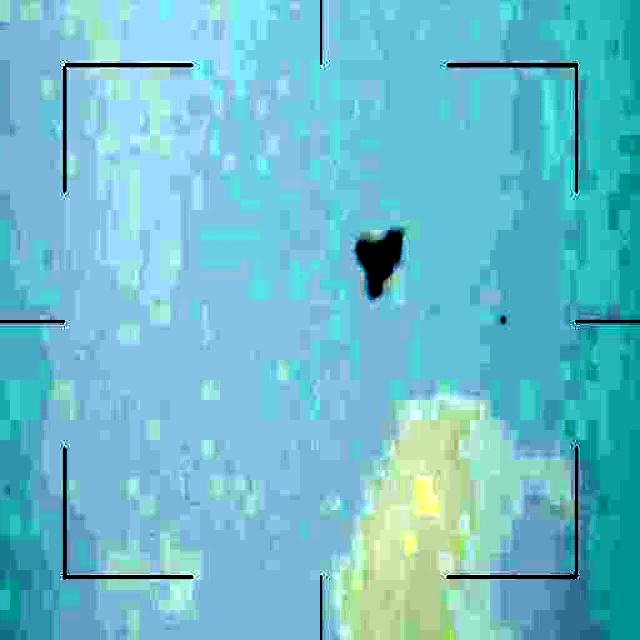bird: (352, 225, 406, 299)
